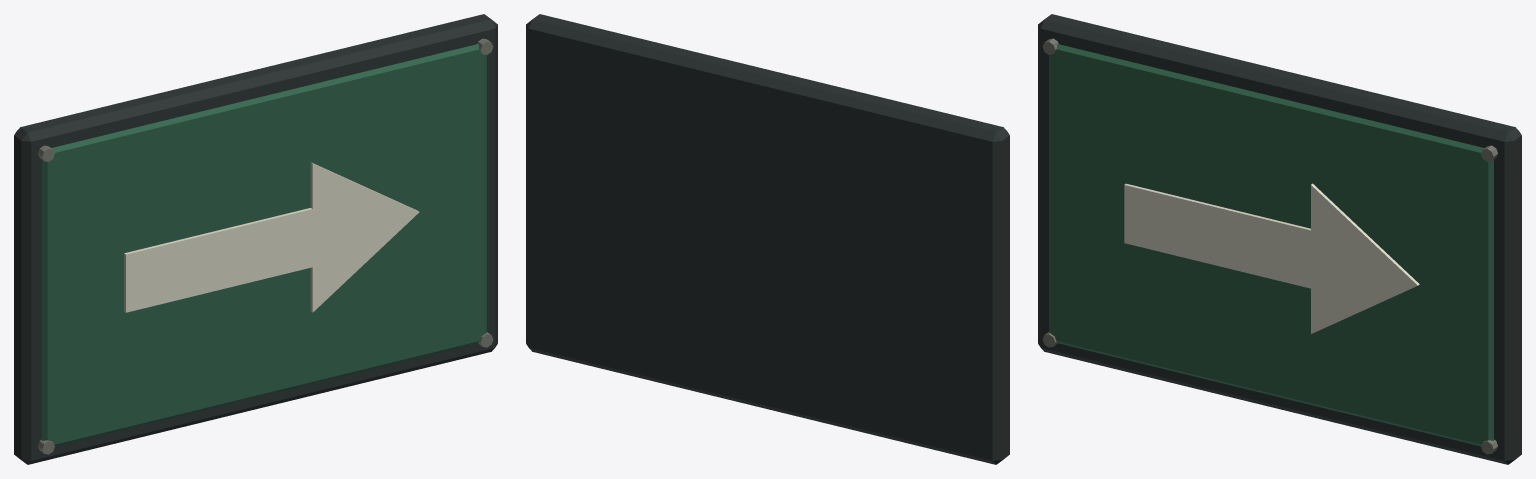
File: SM_Henhouse_Sign_Exit_A.fbx
3 renders of one model, left to right at view 1: azimuth 30°, elevation 25°; view 2: azimuth 150°, elevation 25°; view 3: azimuth 330°, elevation 25°, orthographic.
Parts seen in each view (by area): view 1: SM_Henhouse_Sign_Exit_A; view 2: SM_Henhouse_Sign_Exit_A; view 3: SM_Henhouse_Sign_Exit_A.
Boxes of the visible parts, <box> form: SM_Henhouse_Sign_Exit_A: <box>14,14,497,464</box>; SM_Henhouse_Sign_Exit_A: <box>526,14,1009,464</box>; SM_Henhouse_Sign_Exit_A: <box>1038,14,1521,464</box>.
Size of the model in its own units: 4.4 by 60 by 40.
